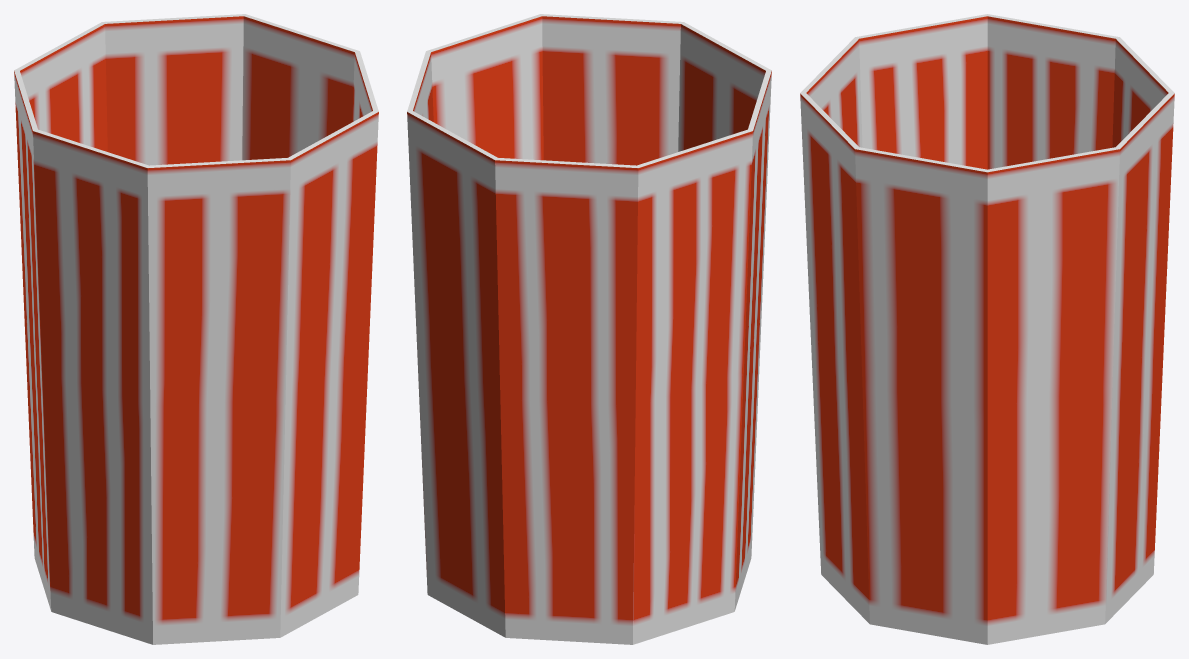
The model's file is JuiceCupB.fbx.
3 views of the same model, side by side, from view 1: azimuth 30°, elevation 25°; view 2: azimuth 150°, elevation 25°; view 3: azimuth 270°, elevation 25° (orthographic).
Visible parts, largest first — view 1: JuiceCupB; view 2: JuiceCupB; view 3: JuiceCupB.
Boxes of the visible parts, x1=… form: JuiceCupB: x1=14, y1=14, x2=378, y2=644; JuiceCupB: x1=407, y1=14, x2=771, y2=644; JuiceCupB: x1=800, y1=14, x2=1174, y2=644.
Bounding box in the file's own units: 102 × 145 × 102.
